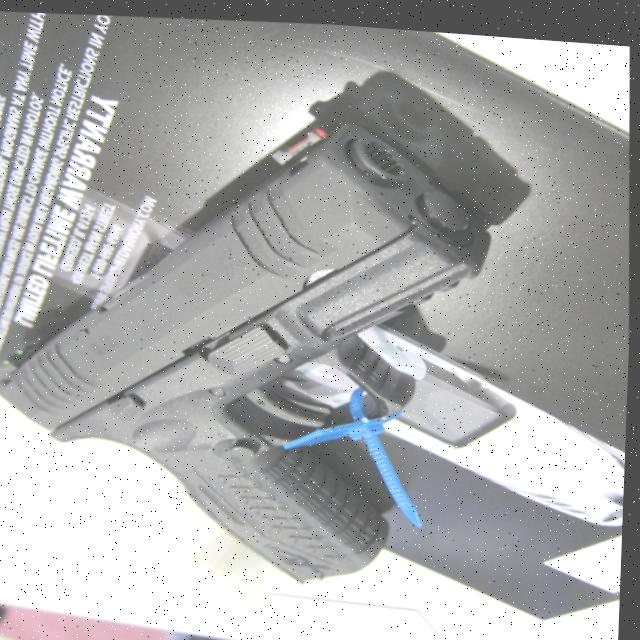pistol: (0, 95, 502, 595)
